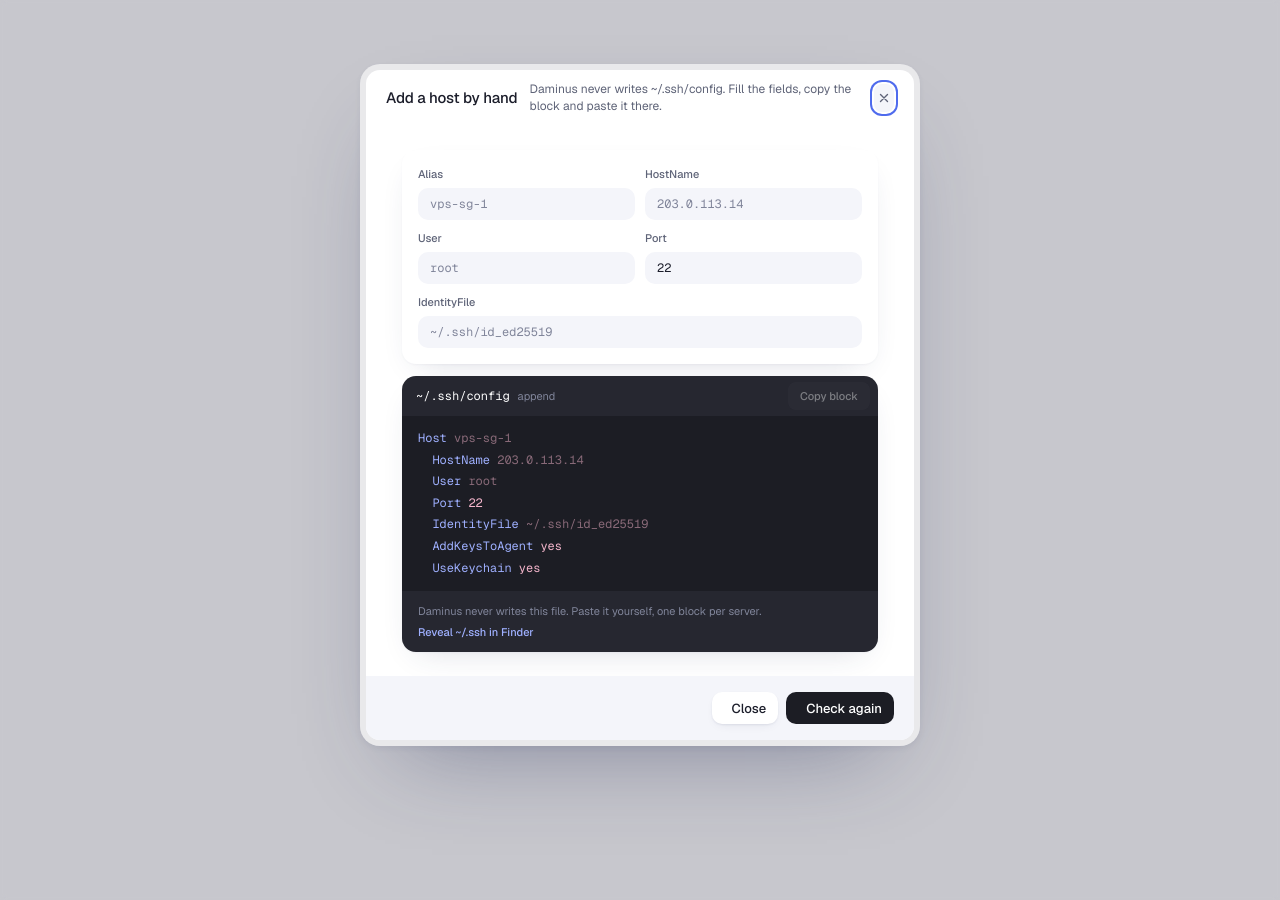
Test: AddHostSheet › offers no Copy block while the form cannot make a block
Type "apollo 2" into the field labelled "Alias" at (526, 204), box [430, 188, 623, 220]
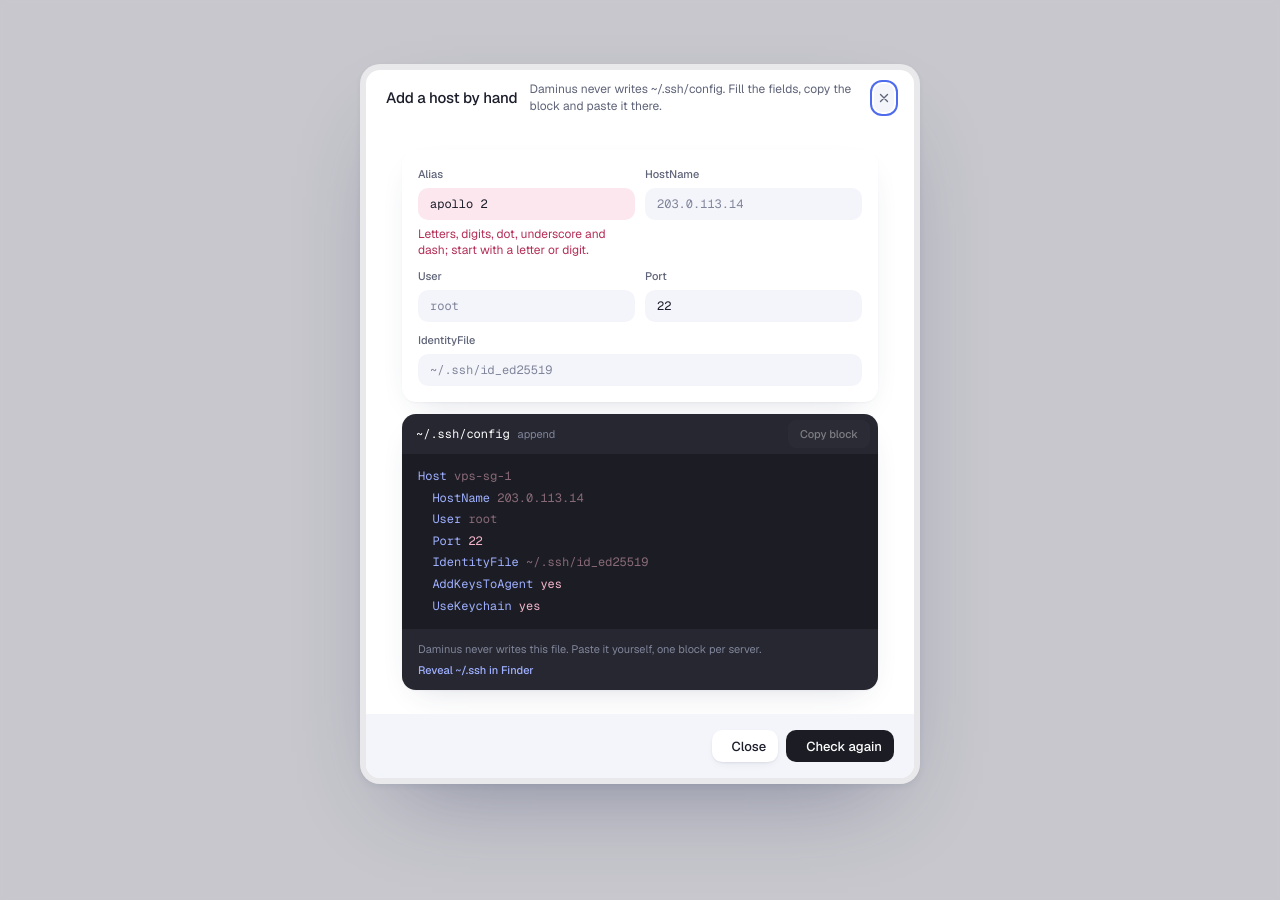
Click the button "Check again" at (840, 746), box [786, 730, 894, 762]
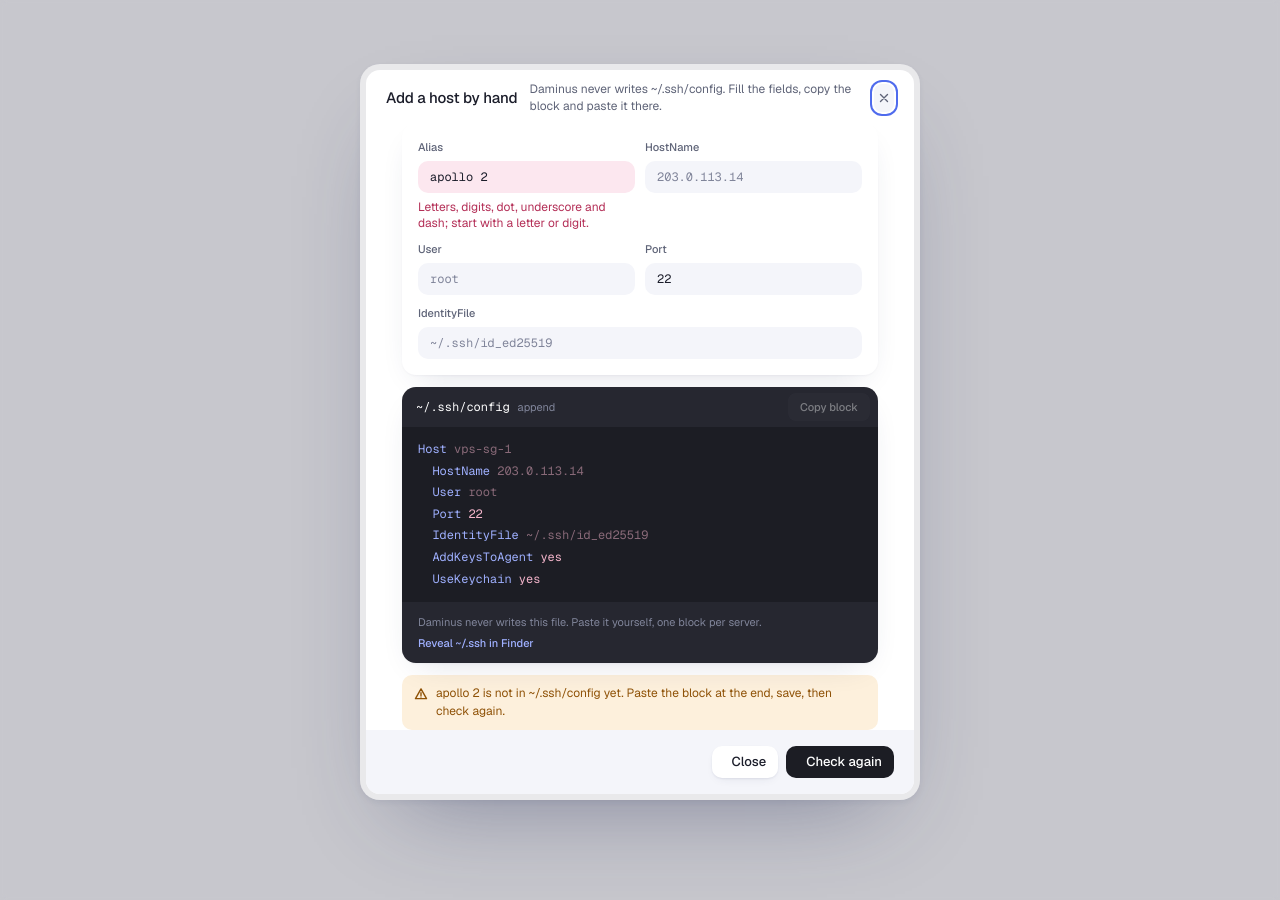
Expected: the message with class "result" is shown, [402, 675, 878, 730]
